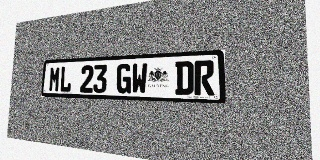2: (80, 65, 94, 93)
3: (93, 64, 107, 93)
D: (175, 61, 194, 95)
G: (116, 63, 132, 94)
L: (59, 66, 72, 92)
M: (48, 66, 61, 92)
R: (194, 60, 214, 95)
W: (131, 63, 148, 94)
